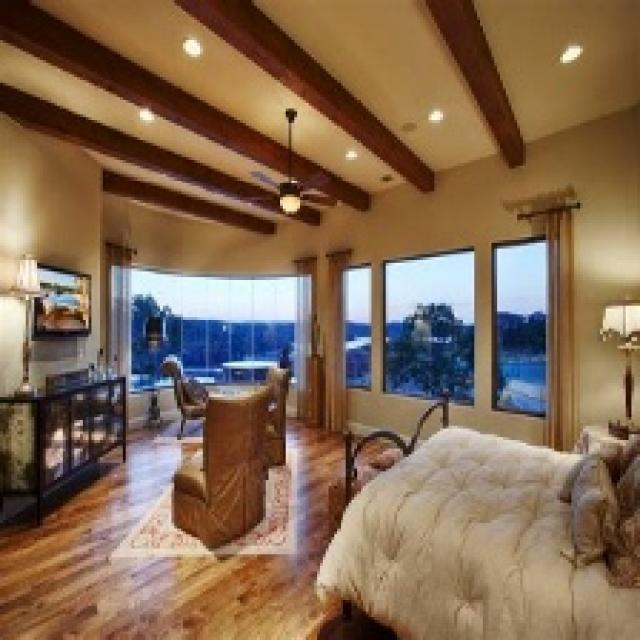Bed: (314, 389, 637, 637)
